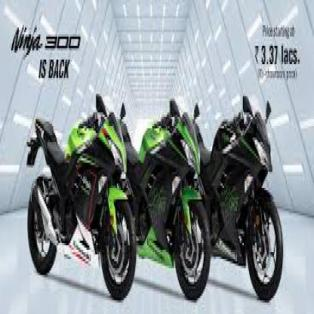Motocicleta: (26, 87, 138, 304), (123, 84, 212, 297), (208, 93, 286, 299)
